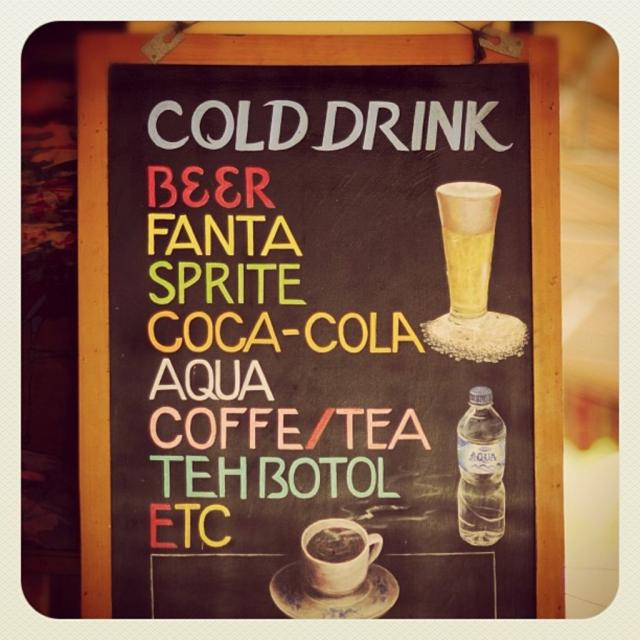Coffee: (305, 527, 367, 565)
